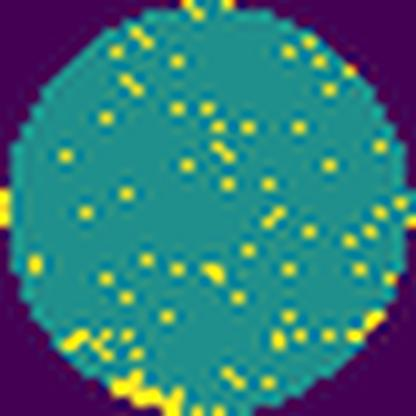Edge-Loc: (108, 364, 188, 416)
